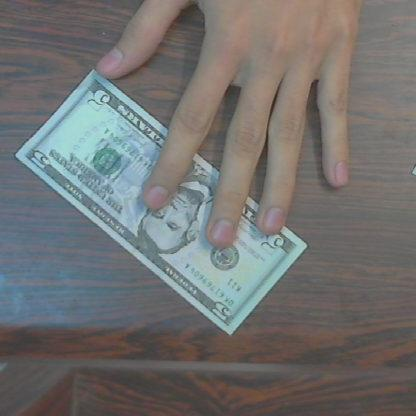five-front: (12, 66, 307, 338)
